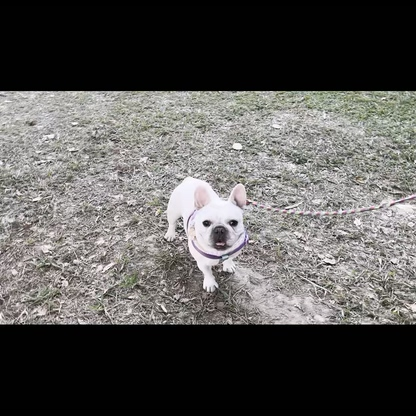bulldog: (159, 170, 249, 297)
